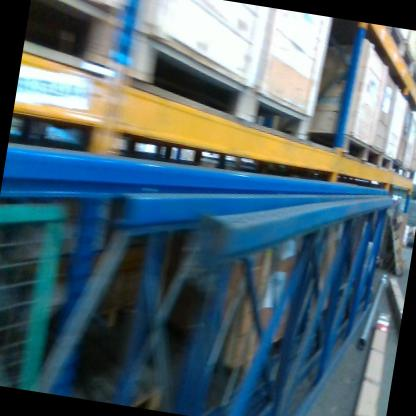pallet: (382, 213, 414, 277)
stillage: (0, 191, 68, 391)
